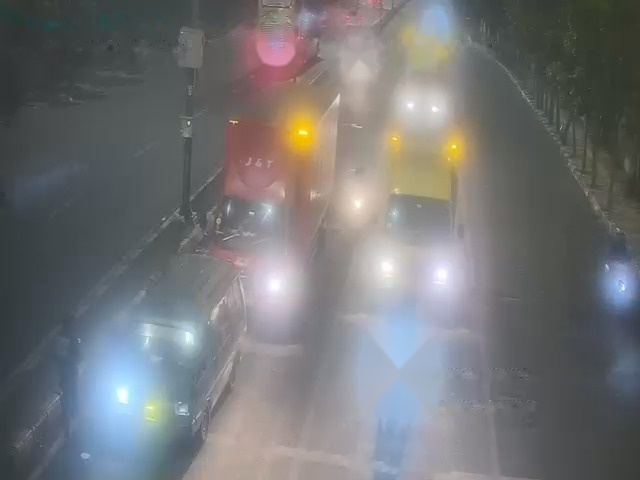Mobil: (115, 250, 233, 433), (401, 59, 450, 127)
Motor: (609, 273, 633, 307)
Truk: (222, 101, 336, 305), (383, 131, 468, 297)
